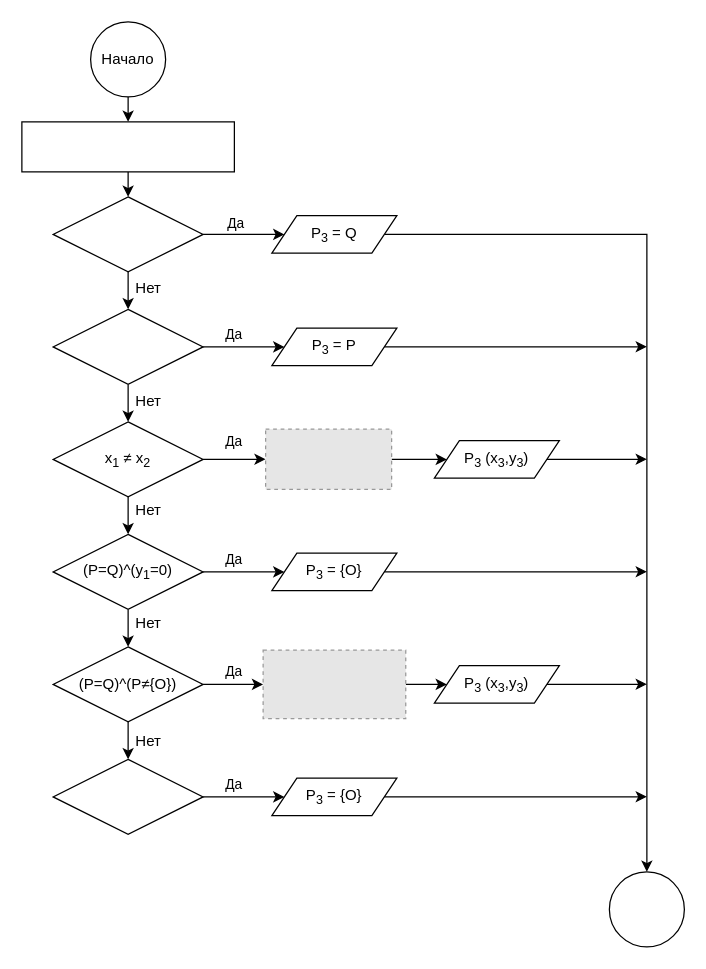
Image size: 706x969. Some labels were removed from this diagram. Grey dashed boxes stand in for pictures. Here are the shapes that lost their labels. From the top down, the centre of each, then its label:
At point 127,146: "Ввод переменных p, a, b, c, P{x 1 ,y 1 }, Q{x 2 , y 2 }".
At point 127,234: "P = {O}".
At point 127,346: "Q = {O}".
At point 127,796: "(x 1 =x 2 )^(y 1 ≠y 2 )".
At point 646,909: "Конец".
